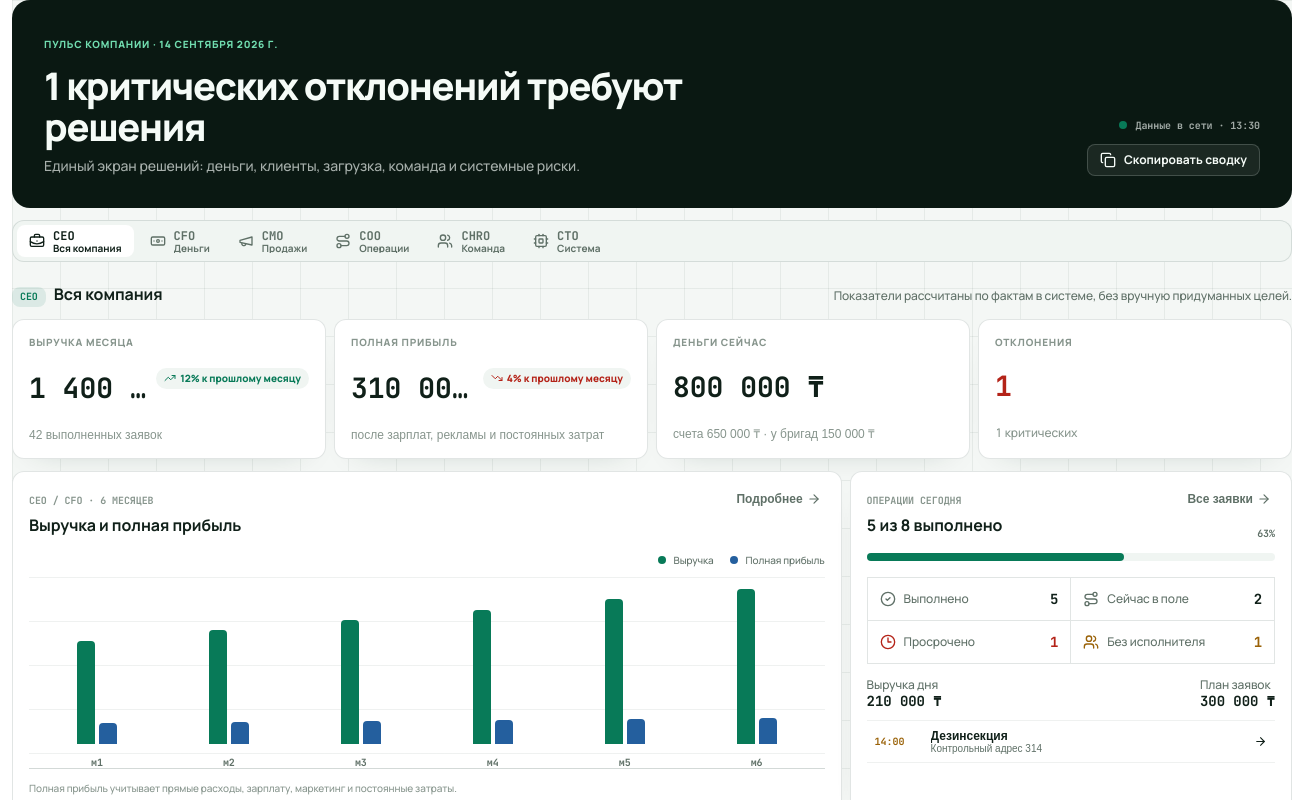
Scenario: executive company pulse › shows a company-wide decision screen and switches management lenses
Click the button "CFO Деньги" at (180, 241), box [138,225,222,257]
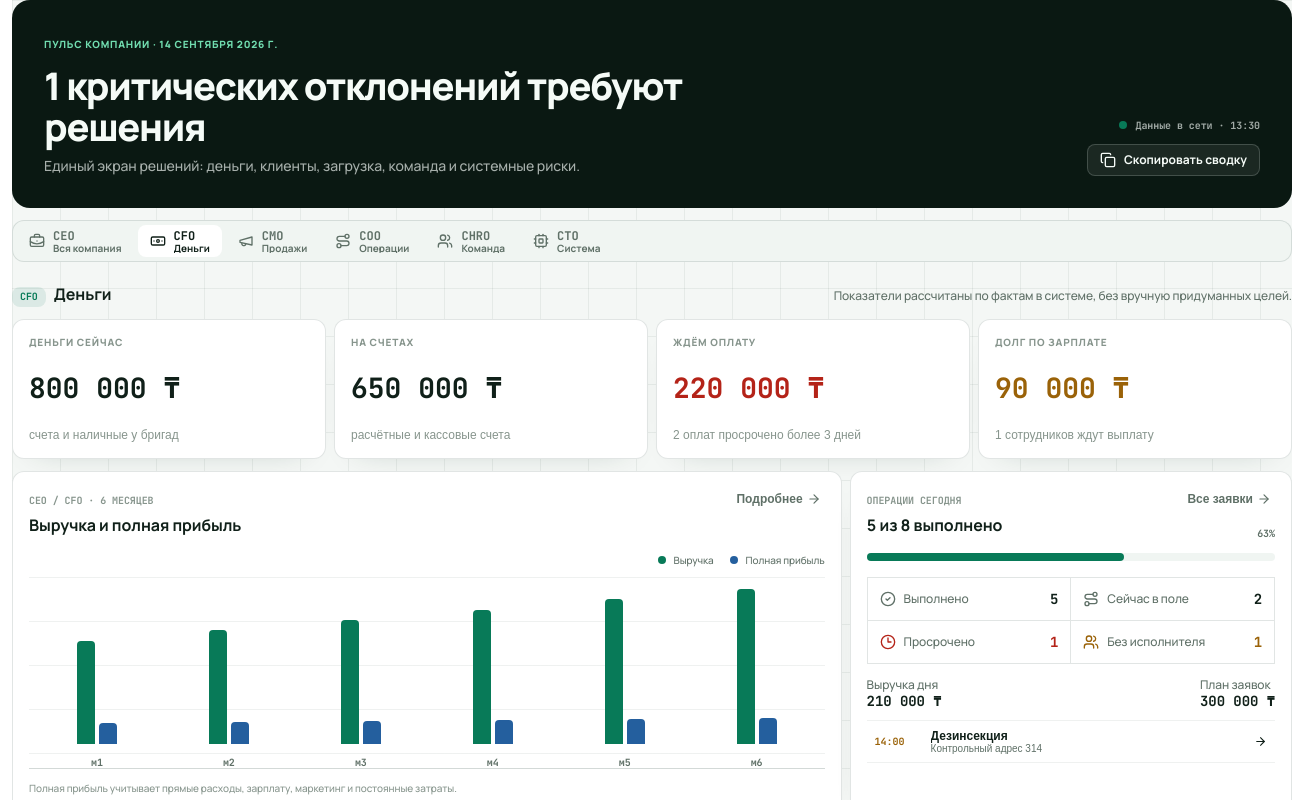
Expected: the text "Ждём оплату" is shown, [673,335,756,349]
Expected: the text "Долг по зарплате" is shown, [995,335,1107,349]
